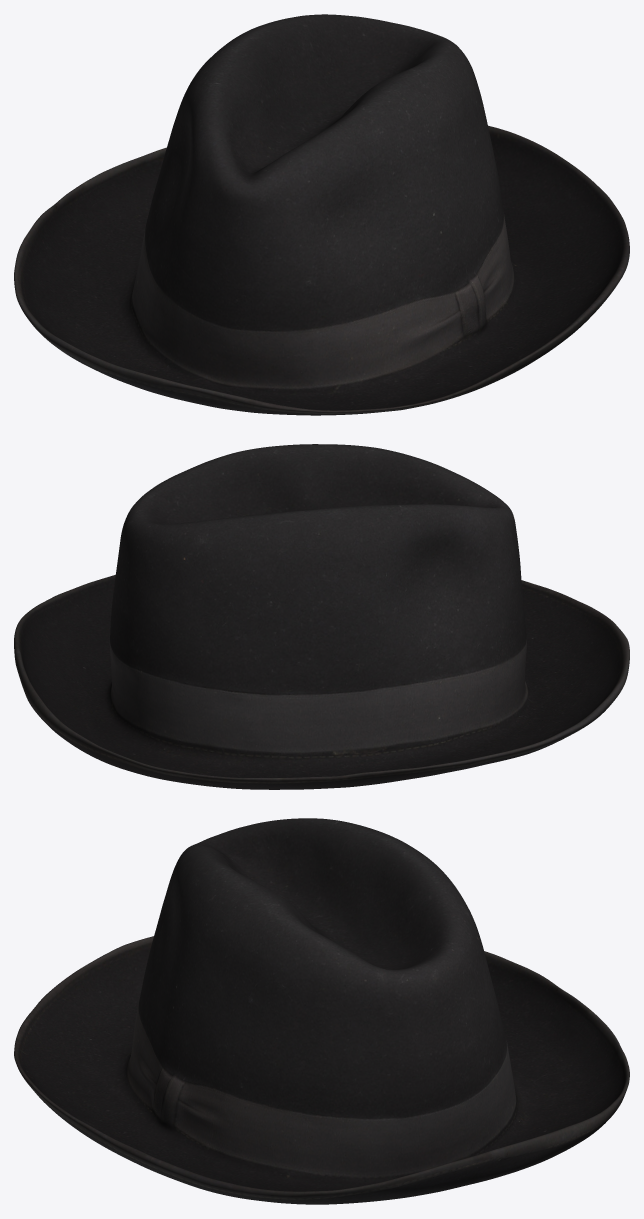
Rendered from hat.glb.
3 views of the same model, one above another, from view 1: azimuth 30°, elevation 25°; view 2: azimuth 150°, elevation 25°; view 3: azimuth 270°, elevation 25° (orthographic). The views are drawn at different scales.
Visible parts, largest first — view 1: Kapelusz_Karola_Wojtyly_defaultMat_0; view 2: Kapelusz_Karola_Wojtyly_defaultMat_0; view 3: Kapelusz_Karola_Wojtyly_defaultMat_0.
Boxes of the visible parts, x1,y1,x2,y2 form: Kapelusz_Karola_Wojtyly_defaultMat_0: (14, 14, 629, 415); Kapelusz_Karola_Wojtyly_defaultMat_0: (14, 444, 629, 789); Kapelusz_Karola_Wojtyly_defaultMat_0: (14, 818, 629, 1204).
Bounding box in the file's own units: 33.31 × 13.69 × 32.19.
1 material, 1 textured.
